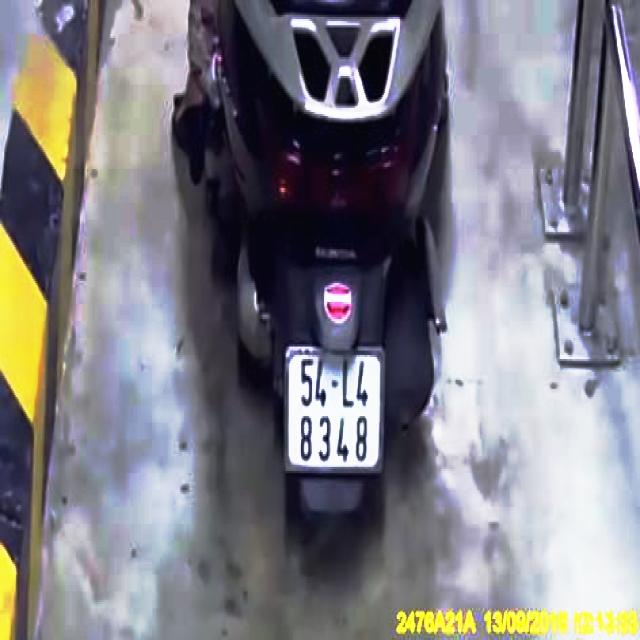license_plate: (289, 350, 384, 470)
